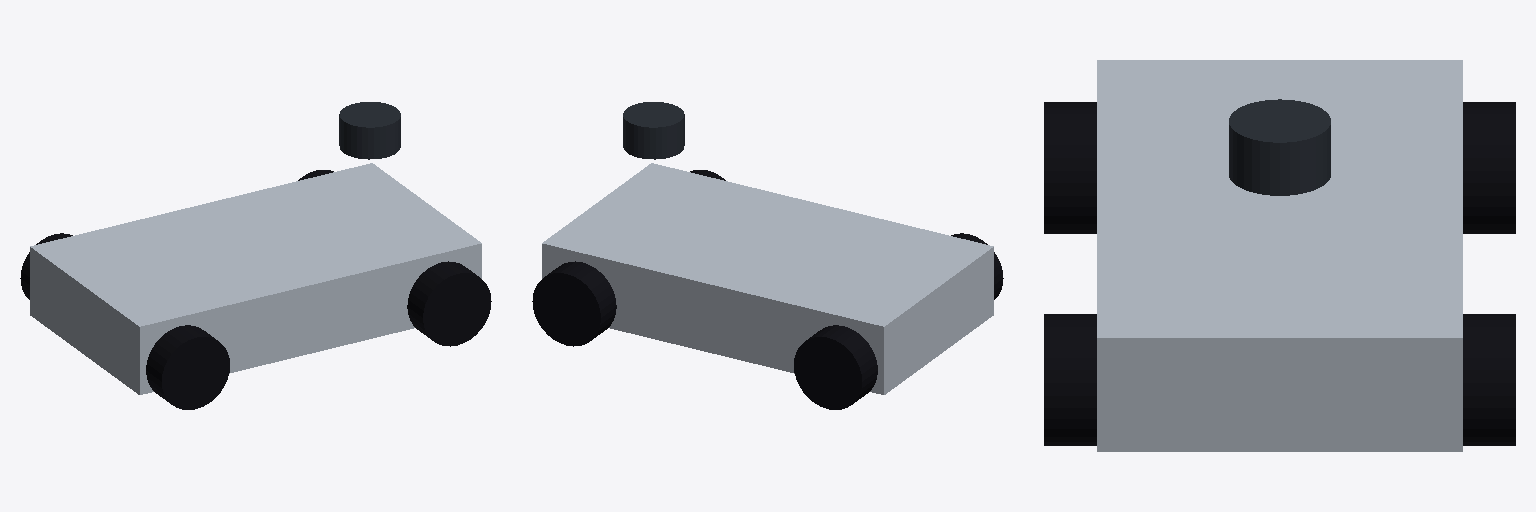
URDF robot description (sentry_mecanum):
<?xml version="1.0"?>
<!--
  Current training car: static four-wheel mecanum chassis.

  Geometry parameters (edit here when measuring the real car):
    wheel_radius      = 0.045 m
    wheel_width       = 0.049 m
    wheel_x           = +/-0.1716 m
    wheel_y           = +/-0.1362 m
    base_size         = 0.450 x 0.250 x 0.086 m
    base_link_z       = 0.045 m (wheel axle height)
    mid360_x/y        = 0.15 / 0.0 m
    mid360_ground_z   = 0.21 m  -> relative to base_link: 0.165 m
    mid360_yaw        = 0 (MID360 X 轴朝车头；实测原 -pi/2 会把前方偏到右扇区)

  All joints are fixed: this is a static TF/visual description, not a
  simulation or ros2_control model. Keep the frame names base_footprint,
  gimbal_yaw and front_mid360 because the Nav2/localization/perception
  configs reference them.
-->
<robot name="sentry_mecanum">

  <material name="base_gray"><color rgba="0.75 0.78 0.82 1.0"/></material>
  <material name="wheel_dark"><color rgba="0.10 0.10 0.12 1.0"/></material>
  <material name="lidar_dark"><color rgba="0.20 0.22 0.25 1.0"/></material>

  <!-- Ground projection / Nav2 base_frame -->
  <link name="base_footprint"/>

  <link name="base_link">
    <visual>
      <origin xyz="0 0 0.0135" rpy="0 0 0"/>
      <geometry><box size="0.450 0.250 0.086"/></geometry>
      <material name="base_gray"/>
    </visual>
    <collision>
      <origin xyz="0 0 0.0135" rpy="0 0 0"/>
      <geometry><box size="0.450 0.250 0.086"/></geometry>
    </collision>
    <inertial>
      <mass value="1.0"/>
      <inertia ixx="0.005825" ixy="0" ixz="0"
               iyy="0.017491" iyz="0"
               izz="0.022083"/>
    </inertial>
  </link>

  <joint name="base_footprint_to_base_link" type="fixed">
    <parent link="base_footprint"/>
    <child link="base_link"/>
    <origin xyz="0 0 0.045" rpy="0 0 0"/>
  </joint>

  <!-- Fixed wheels: only for TF/visualization. Positive X is vehicle forward. -->
  <link name="wheel_front_left">
    <visual>
      <origin xyz="0 0 0" rpy="1.57079632679 0 0"/>
      <geometry><cylinder radius="0.045" length="0.049"/></geometry>
      <material name="wheel_dark"/>
    </visual>
    <collision>
      <origin xyz="0 0 0" rpy="1.57079632679 0 0"/>
      <geometry><cylinder radius="0.045" length="0.049"/></geometry>
    </collision>
    <inertial>
      <mass value="0.0565"/>
      <inertia ixx="0.0000399" ixy="0" ixz="0"
               iyy="0.0000399" iyz="0"
               izz="0.0000572"/>
    </inertial>
  </link>
  <joint name="wheel_front_left_joint" type="continuous">
    <parent link="base_link"/>
    <child link="wheel_front_left"/>
    <origin xyz="0.1716 0.1362 0" rpy="0 0 0"/>
    <axis xyz="0 1 0"/>
    <limit effort="10.0" velocity="45.0"/>
  </joint>

  <link name="wheel_front_right">
    <visual>
      <origin xyz="0 0 0" rpy="1.57079632679 0 0"/>
      <geometry><cylinder radius="0.045" length="0.049"/></geometry>
      <material name="wheel_dark"/>
    </visual>
    <collision>
      <origin xyz="0 0 0" rpy="1.57079632679 0 0"/>
      <geometry><cylinder radius="0.045" length="0.049"/></geometry>
    </collision>
    <inertial>
      <mass value="0.0565"/>
      <inertia ixx="0.0000399" ixy="0" ixz="0"
               iyy="0.0000399" iyz="0"
               izz="0.0000572"/>
    </inertial>
  </link>
  <joint name="wheel_front_right_joint" type="continuous">
    <parent link="base_link"/>
    <child link="wheel_front_right"/>
    <origin xyz="0.1716 -0.1362 0" rpy="0 0 0"/>
    <axis xyz="0 1 0"/>
    <limit effort="10.0" velocity="45.0"/>
  </joint>

  <link name="wheel_back_left">
    <visual>
      <origin xyz="0 0 0" rpy="1.57079632679 0 0"/>
      <geometry><cylinder radius="0.045" length="0.049"/></geometry>
      <material name="wheel_dark"/>
    </visual>
    <collision>
      <origin xyz="0 0 0" rpy="1.57079632679 0 0"/>
      <geometry><cylinder radius="0.045" length="0.049"/></geometry>
    </collision>
    <inertial>
      <mass value="0.0565"/>
      <inertia ixx="0.0000399" ixy="0" ixz="0"
               iyy="0.0000399" iyz="0"
               izz="0.0000572"/>
    </inertial>
  </link>
  <joint name="wheel_back_left_joint" type="continuous">
    <parent link="base_link"/>
    <child link="wheel_back_left"/>
    <origin xyz="-0.1716 0.1362 0" rpy="0 0 0"/>
    <axis xyz="0 1 0"/>
    <limit effort="10.0" velocity="45.0"/>
  </joint>

  <link name="wheel_back_right">
    <visual>
      <origin xyz="0 0 0" rpy="1.57079632679 0 0"/>
      <geometry><cylinder radius="0.045" length="0.049"/></geometry>
      <material name="wheel_dark"/>
    </visual>
    <collision>
      <origin xyz="0 0 0" rpy="1.57079632679 0 0"/>
      <geometry><cylinder radius="0.045" length="0.049"/></geometry>
    </collision>
    <inertial>
      <mass value="0.0565"/>
      <inertia ixx="0.0000399" ixy="0" ixz="0"
               iyy="0.0000399" iyz="0"
               izz="0.0000572"/>
    </inertial>
  </link>
  <joint name="wheel_back_right_joint" type="continuous">
    <parent link="base_link"/>
    <child link="wheel_back_right"/>
    <origin xyz="-0.1716 -0.1362 0" rpy="0 0 0"/>
    <axis xyz="0 1 0"/>
    <limit effort="10.0" velocity="45.0"/>
  </joint>

  <!-- IMU frame: the DM-MC02 IMU mount is not measured yet; keep it at base_link. -->
  <link name="imu_link"/>
  <joint name="imu_link_joint" type="fixed">
    <parent link="base_link"/>
    <child link="imu_link"/>
    <origin xyz="0 0 0" rpy="0 0 0"/>
  </joint>

  <!-- Compatibility frame: the current car has no gimbal yet, but the Nav2
       stack uses gimbal_yaw as robot_base_frame. Keep it fixed to base_link. -->
  <link name="gimbal_yaw"/>
  <joint name="gimbal_yaw_fixed_joint" type="fixed">
    <parent link="base_link"/>
    <child link="gimbal_yaw"/>
    <origin xyz="0 0 0" rpy="0 0 0"/>
  </joint>

  <!-- MID360: 0.15 m forward, 0.21 m above ground. Relative to base_link:
       z = 0.21 - 0.045 = 0.165 m. Yaw follows the original mecanum laser_frame. -->
  <link name="front_mid360">
    <visual>
      <origin xyz="0 0 0" rpy="0 0 0"/>
      <geometry><cylinder radius="0.035" length="0.04"/></geometry>
      <material name="lidar_dark"/>
    </visual>
    <inertial>
      <mass value="0.01"/>
      <inertia ixx="0.000001" ixy="0" ixz="0"
               iyy="0.000001" iyz="0"
               izz="0.000001"/>
    </inertial>
  </link>
  <joint name="front_mid360_joint" type="fixed">
    <parent link="gimbal_yaw"/>
    <child link="front_mid360"/>
    <origin xyz="0.15 0 0.165" rpy="0 0 0"/>
  </joint>

</robot>

--- What the picture shows (computed from the rendered views, not written in the file) ---
Views: 3 orthographic renders of the robot side by side, from view 1: azimuth 30°, elevation 25°; view 2: azimuth 150°, elevation 25°; view 3: azimuth 270°, elevation 25°.
Model sentry_mecanum with 9 links and 8 joints (4 continuous, 4 fixed), rooted at base_footprint, posed all joints at 0.
Visible links, largest first — view 1: base_link, wheel_back_right, wheel_front_right, front_mid360; view 2: base_link, wheel_back_left, wheel_front_left, front_mid360; view 3: base_link, front_mid360, wheel_front_left, wheel_front_right, wheel_back_left, wheel_back_right.
Boxes of the visible links, x1,y1,x2,y2 form: base_link: (30,163,481,394); wheel_back_right: (146,325,229,409); wheel_front_right: (407,261,491,346); front_mid360: (339,102,400,159); base_link: (542,163,993,394); wheel_back_left: (794,325,877,409); wheel_front_left: (532,261,616,346); front_mid360: (623,102,684,159); base_link: (1097,60,1462,451); front_mid360: (1229,99,1330,195); wheel_front_left: (1463,314,1515,445); wheel_front_right: (1044,314,1096,445); wheel_back_left: (1463,102,1515,233); wheel_back_right: (1044,102,1096,233).
Size in the robot's own frame: 0.45 by 0.3214 by 0.23 metres.
Geometry: primitives only (box / cylinder / sphere), no mesh files.
